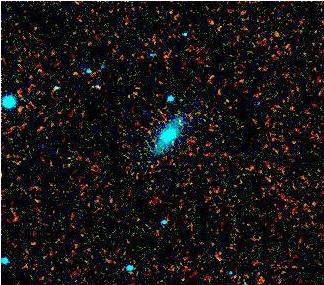star: (205, 243, 235, 273)
